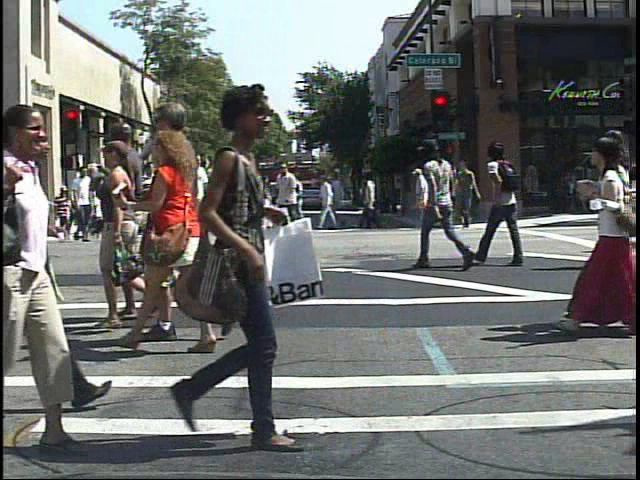person: (166, 77, 301, 458), (2, 95, 103, 462), (132, 120, 241, 359), (135, 96, 208, 349), (557, 119, 638, 346), (407, 129, 471, 272), (478, 136, 537, 273), (603, 127, 634, 341), (177, 153, 212, 248), (68, 163, 98, 245), (134, 159, 164, 240), (120, 161, 149, 243), (48, 183, 74, 245), (414, 164, 435, 217), (85, 182, 105, 224)
